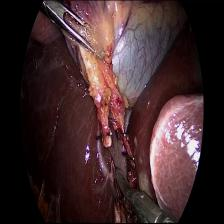Grasper: (45, 0, 109, 72)
Scissors: (112, 164, 164, 224)
